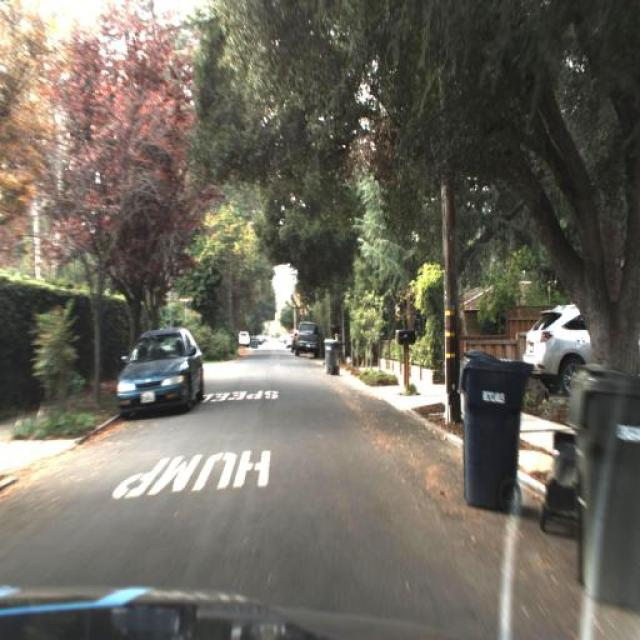car: (111, 321, 203, 418), (503, 297, 609, 373), (518, 296, 594, 383), (290, 317, 321, 355), (237, 327, 252, 348)
